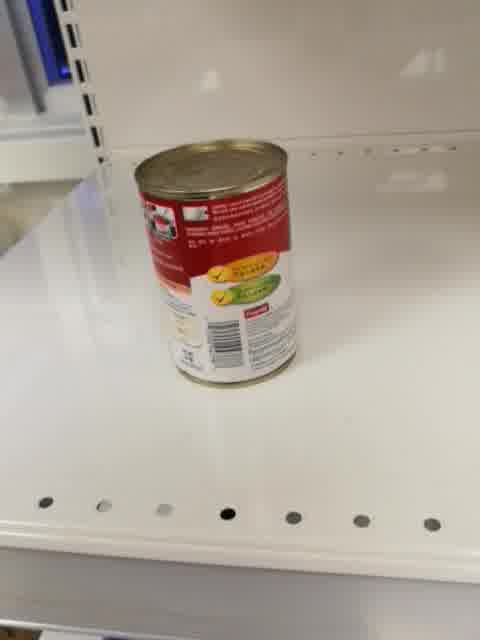tomatosoup: (132, 135, 299, 390)
